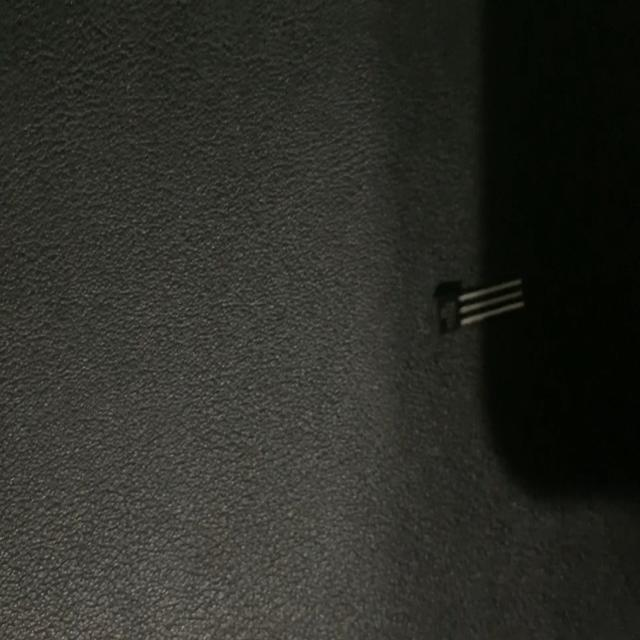BJT: (434, 278, 524, 334)
